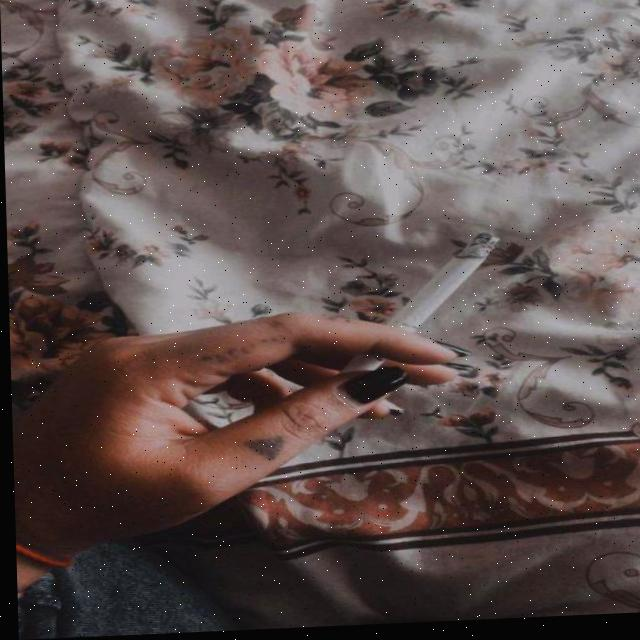cigarette: (337, 239, 500, 380)
